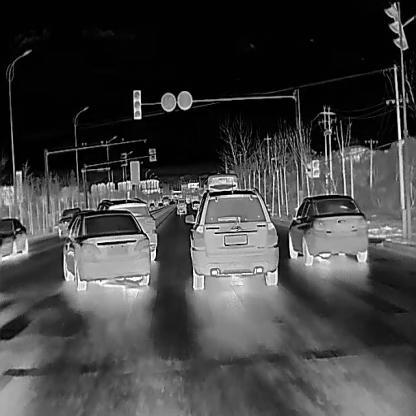car: (187, 184, 278, 290), (61, 207, 148, 291), (287, 192, 368, 266), (95, 196, 157, 262), (0, 216, 29, 259), (176, 202, 187, 214), (191, 198, 200, 209), (161, 196, 170, 206), (148, 203, 155, 211)
